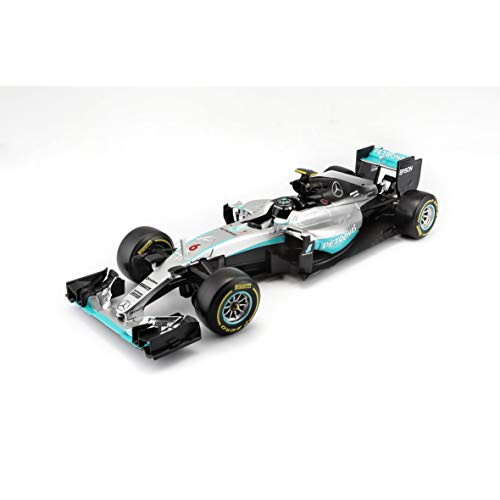f1_car: (59, 137, 448, 368)
